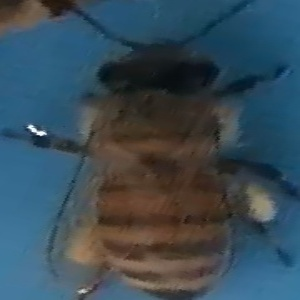bee: (57, 22, 297, 300)
